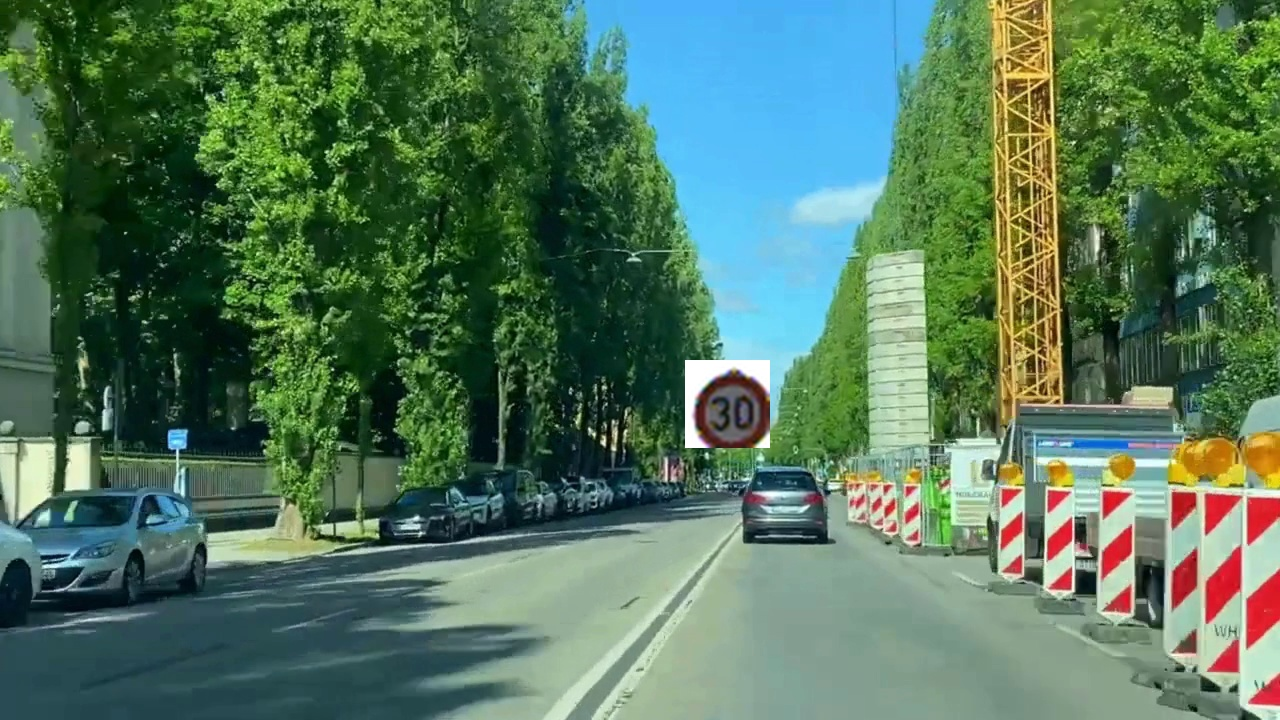Speed 30: (685, 360, 770, 448)
